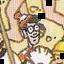waldo: (14, 12, 42, 45)
